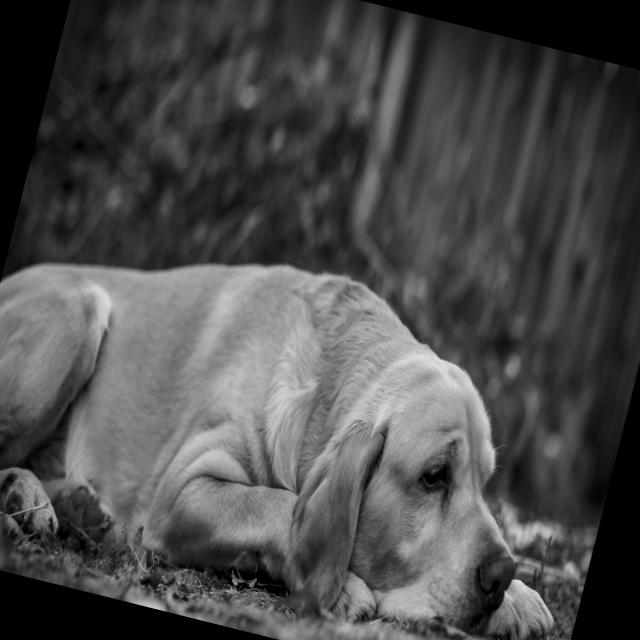laying down: (0, 190, 626, 640)
